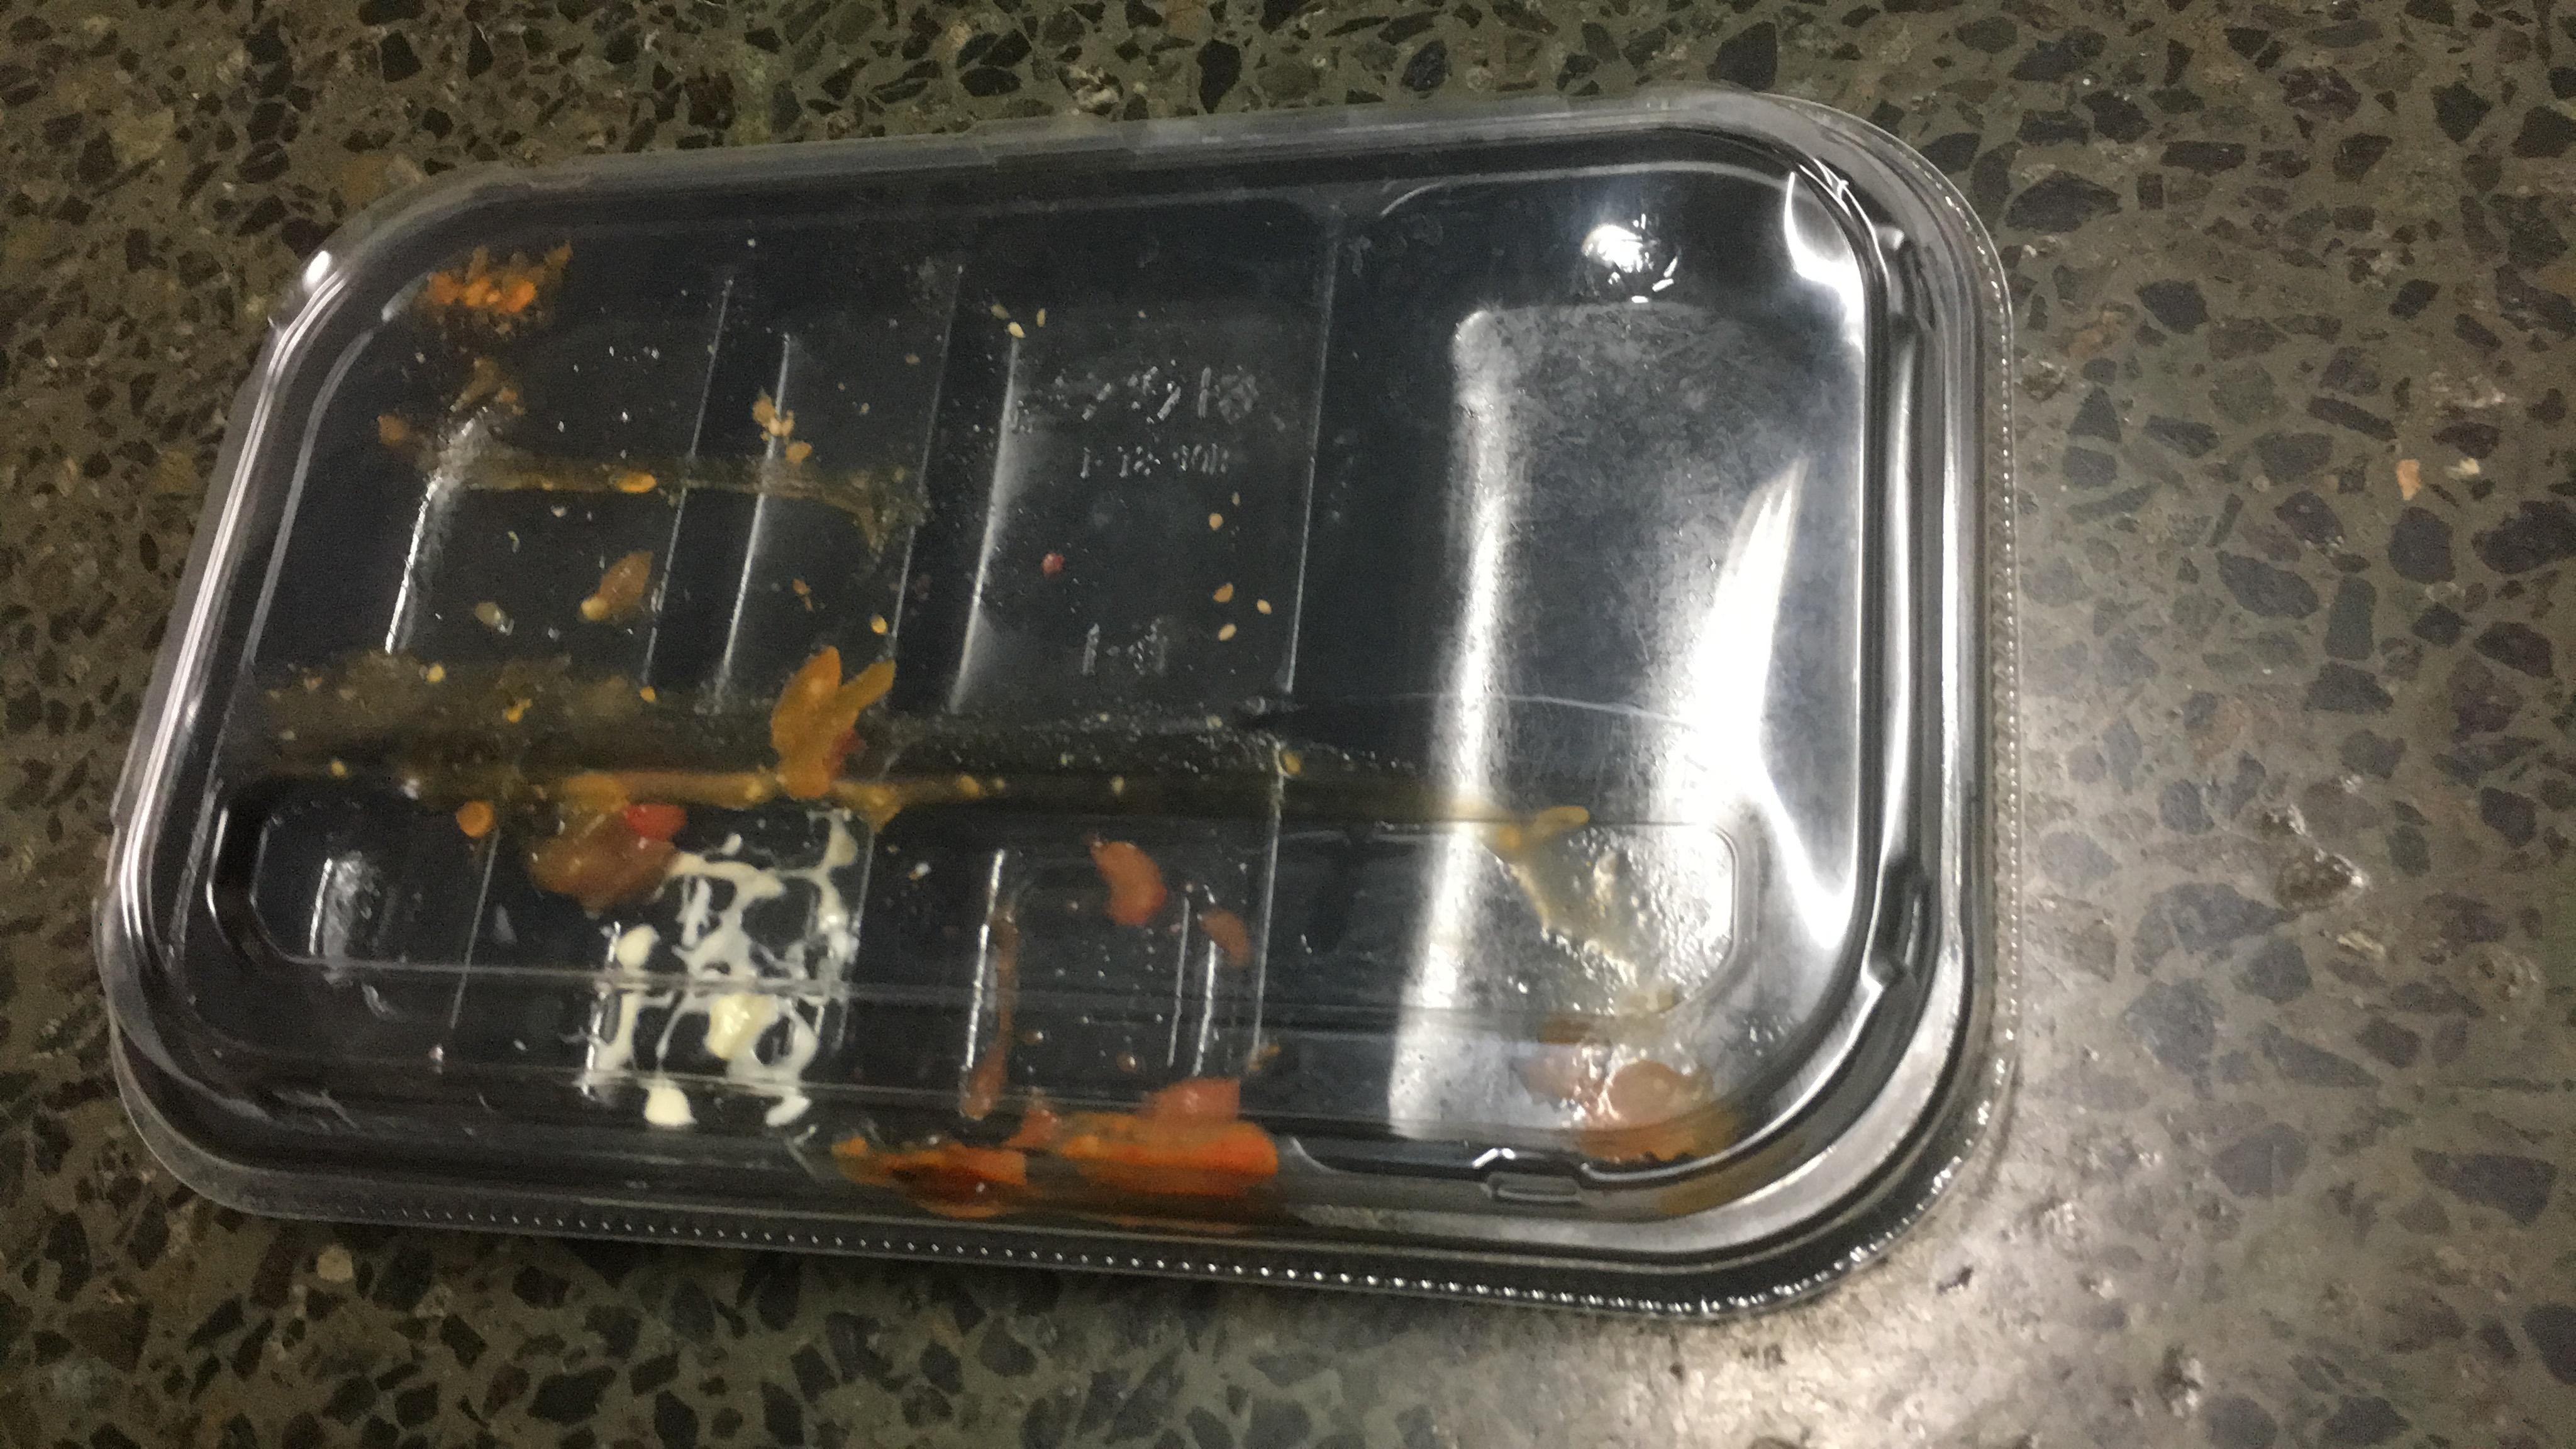bottle: (1348, 64, 1378, 1081)
